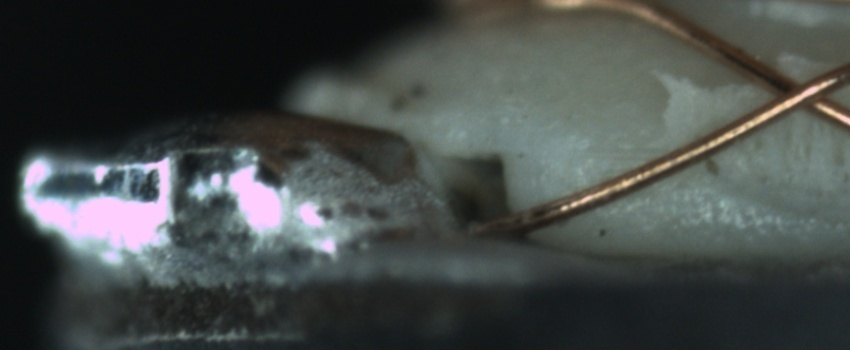CL: (745, 56, 846, 124)
DL: (568, 128, 686, 178)
